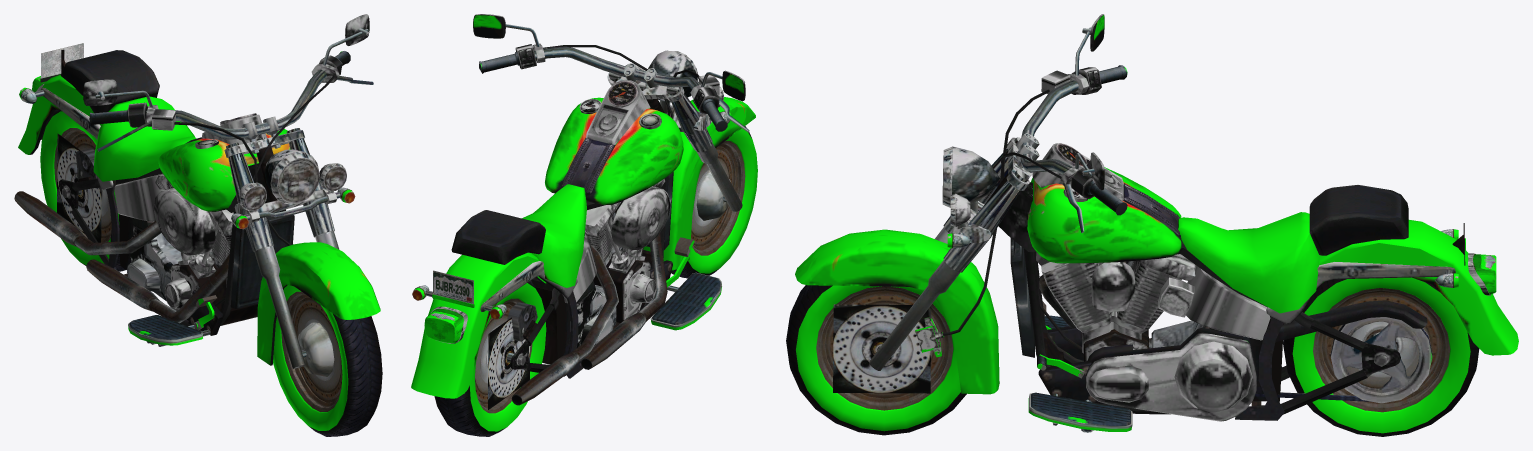
3 views of the same model, side by side, from view 1: azimuth 30°, elevation 25°; view 2: azimuth 150°, elevation 25°; view 3: azimuth 270°, elevation 25° (orthographic). The views are drawn at different scales.
Bounding box in the file's own units: 236 × 245 × 475.
6 materials, 6 textured.
